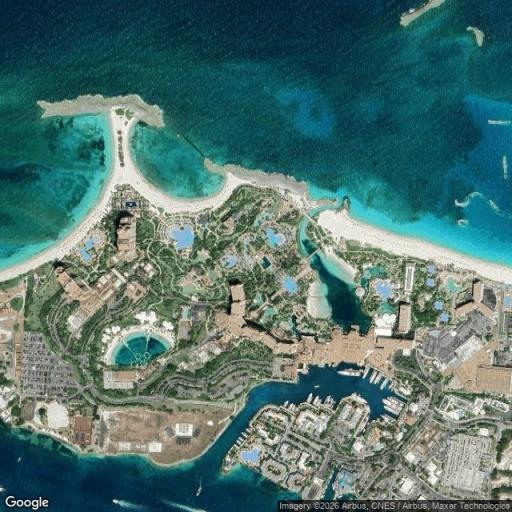ship: (383, 397, 404, 415), (112, 496, 137, 508), (390, 383, 407, 399), (193, 479, 205, 501), (393, 386, 410, 400), (385, 400, 402, 413), (356, 416, 369, 433), (388, 396, 404, 408), (387, 397, 406, 407), (359, 415, 370, 432), (351, 393, 368, 404), (350, 393, 367, 404), (337, 369, 363, 376), (384, 406, 402, 416), (323, 395, 335, 410), (384, 404, 399, 415), (337, 368, 360, 375), (351, 392, 365, 403), (380, 414, 395, 424), (379, 415, 395, 424), (383, 399, 395, 411), (371, 371, 381, 384), (380, 378, 390, 390), (383, 414, 395, 424), (383, 397, 395, 407), (380, 376, 389, 389), (370, 370, 378, 383), (371, 370, 379, 383), (362, 421, 371, 432), (380, 377, 388, 389), (312, 396, 321, 406), (368, 368, 374, 382), (375, 374, 383, 384), (288, 403, 298, 411), (363, 367, 370, 378), (283, 403, 294, 410), (306, 393, 314, 402), (286, 403, 295, 411), (377, 374, 385, 383), (288, 403, 297, 411), (380, 414, 388, 423), (323, 396, 331, 405), (369, 369, 374, 383), (239, 432, 245, 443), (236, 437, 243, 446), (365, 405, 371, 414), (389, 382, 395, 391), (389, 381, 395, 390), (307, 393, 312, 403), (238, 434, 243, 443), (235, 438, 240, 446), (247, 426, 252, 433), (242, 432, 247, 438), (284, 401, 288, 407), (314, 385, 319, 388)
